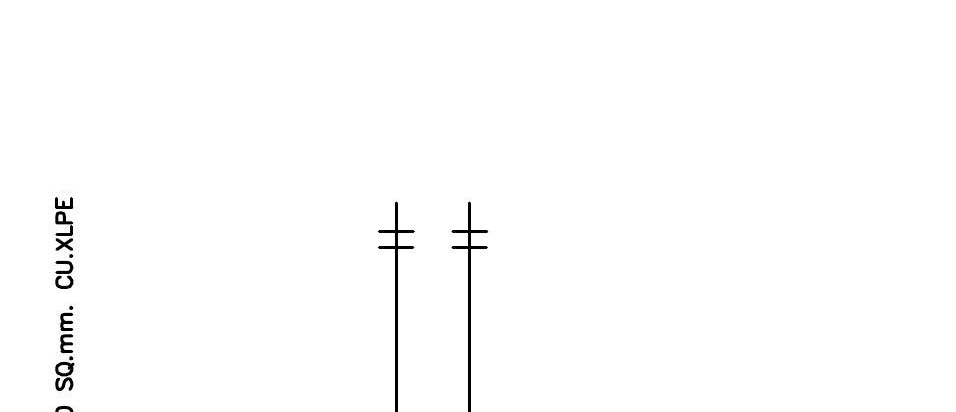115_buffer: (378, 230, 415, 249), (451, 230, 488, 249)
